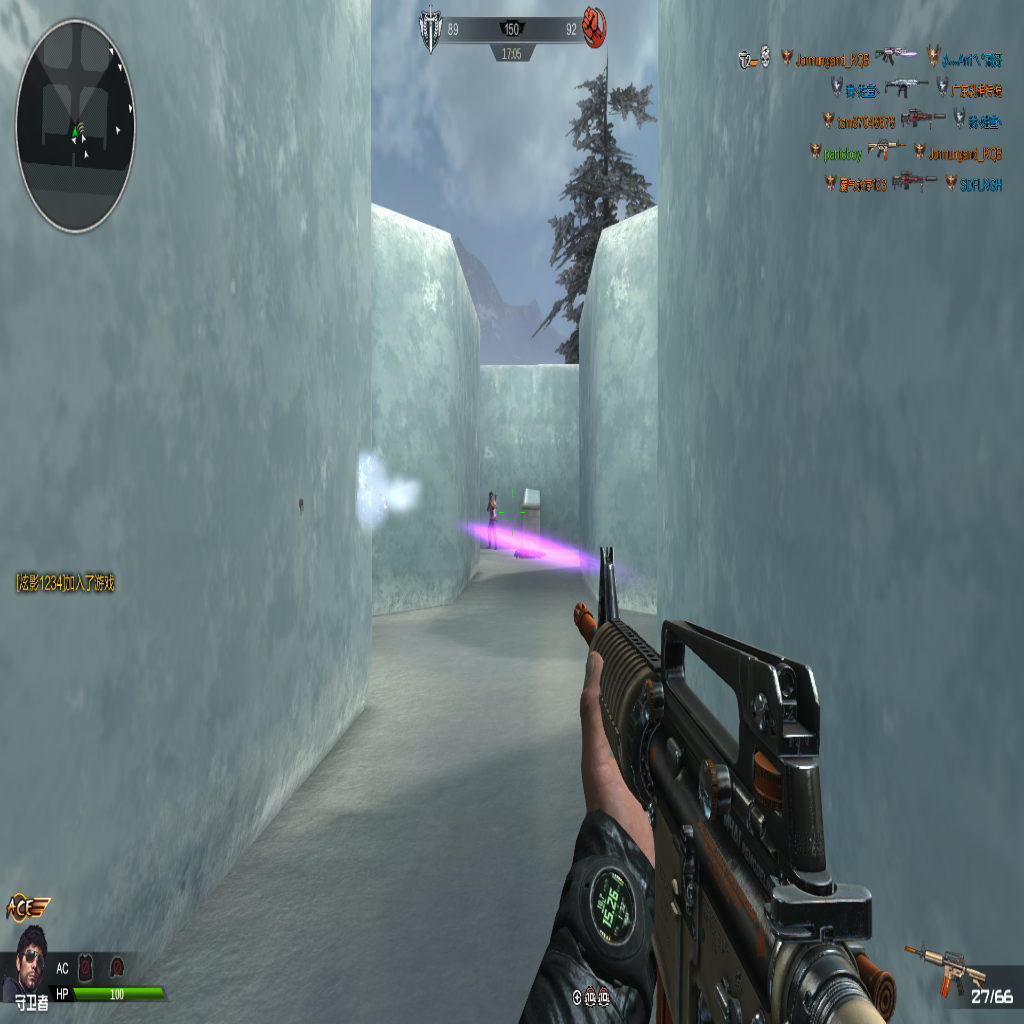tt: (487, 490, 497, 523)
